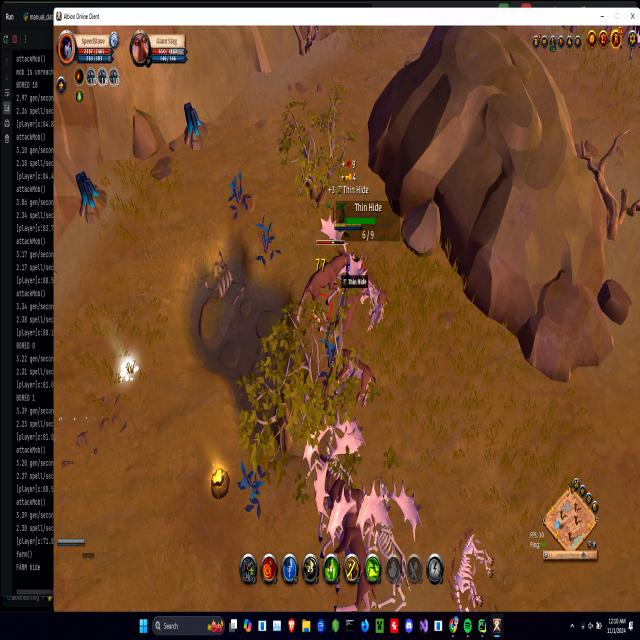mob: (322, 500, 378, 612), (306, 449, 370, 522), (355, 256, 391, 327), (337, 350, 378, 410), (329, 277, 358, 344)
ore: (296, 219, 360, 329)
player: (74, 169, 107, 223), (180, 100, 203, 150)
red: (334, 218, 364, 281), (55, 533, 86, 550)
stone: (115, 352, 141, 387)
